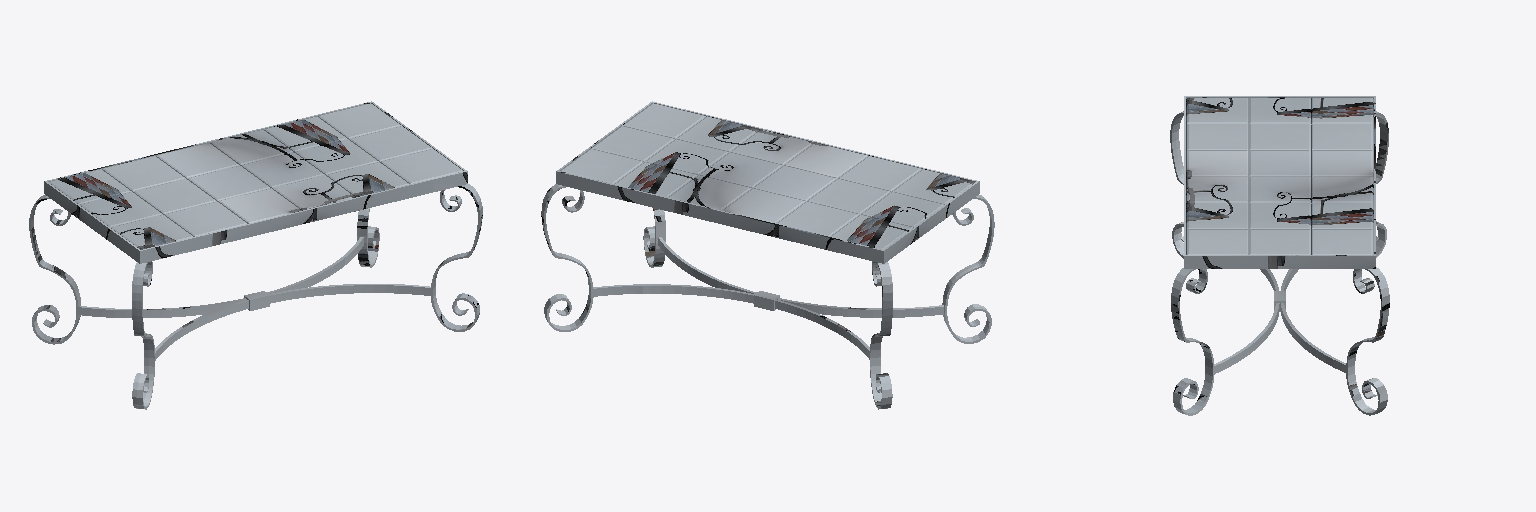
3 renders of one model, left to right at view 1: azimuth 30°, elevation 25°; view 2: azimuth 150°, elevation 25°; view 3: azimuth 270°, elevation 25°, orthographic.
Visible parts, largest first — view 1: coffetable_dxf_001; view 2: coffetable_dxf_001; view 3: coffetable_dxf_001.
Part boxes in pixels (x1,y1,x2,y2): coffetable_dxf_001: (29,101,482,409); coffetable_dxf_001: (541,101,994,409); coffetable_dxf_001: (1170,96,1389,415).
Size of the model in its own units: 1148 by 499 by 620.
Materials: 1 (1 with a texture image).